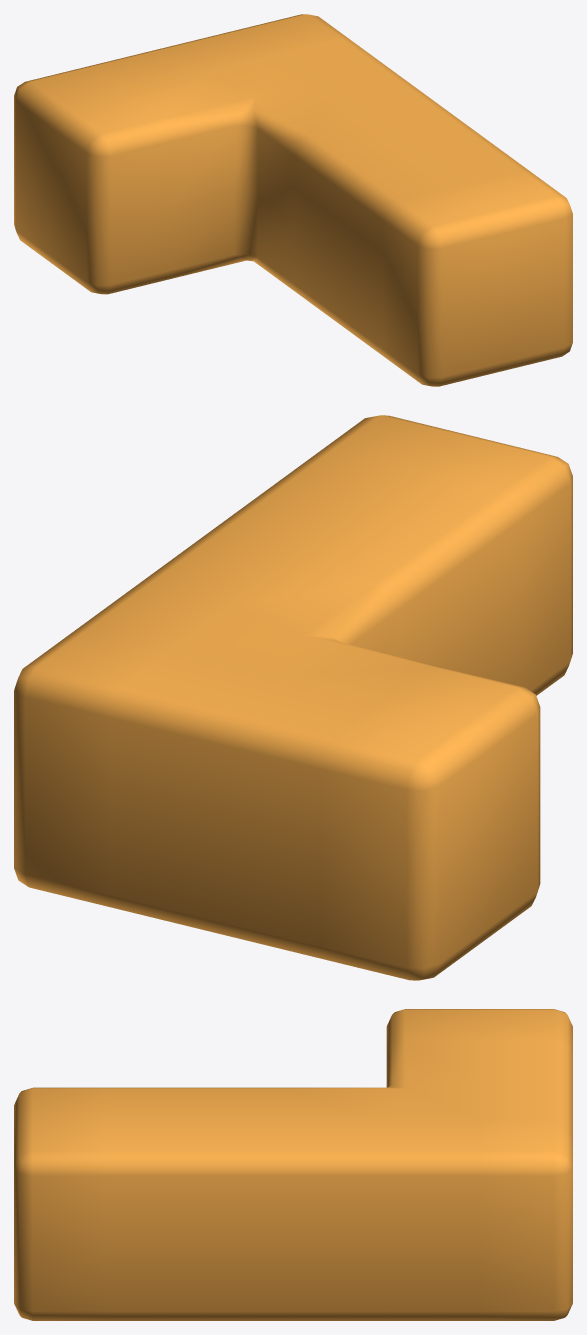
Rendered from tetrisL-glass.obj.
The picture shows the model from 3 angles, top to bottom: view 1: azimuth 30°, elevation 25°; view 2: azimuth 150°, elevation 25°; view 3: azimuth 270°, elevation 25°; orthographic projection. The views are drawn at different scales.
Visible parts, largest first — view 1: Cube; view 2: Cube; view 3: Cube.
Boxes of the visible parts, left/top/right/bottom form: Cube: left=14, top=14, right=572, bottom=386; Cube: left=14, top=415, right=572, bottom=980; Cube: left=14, top=1009, right=572, bottom=1320.
Size of the model in its own units: 0.3 by 0.15 by 0.45.
